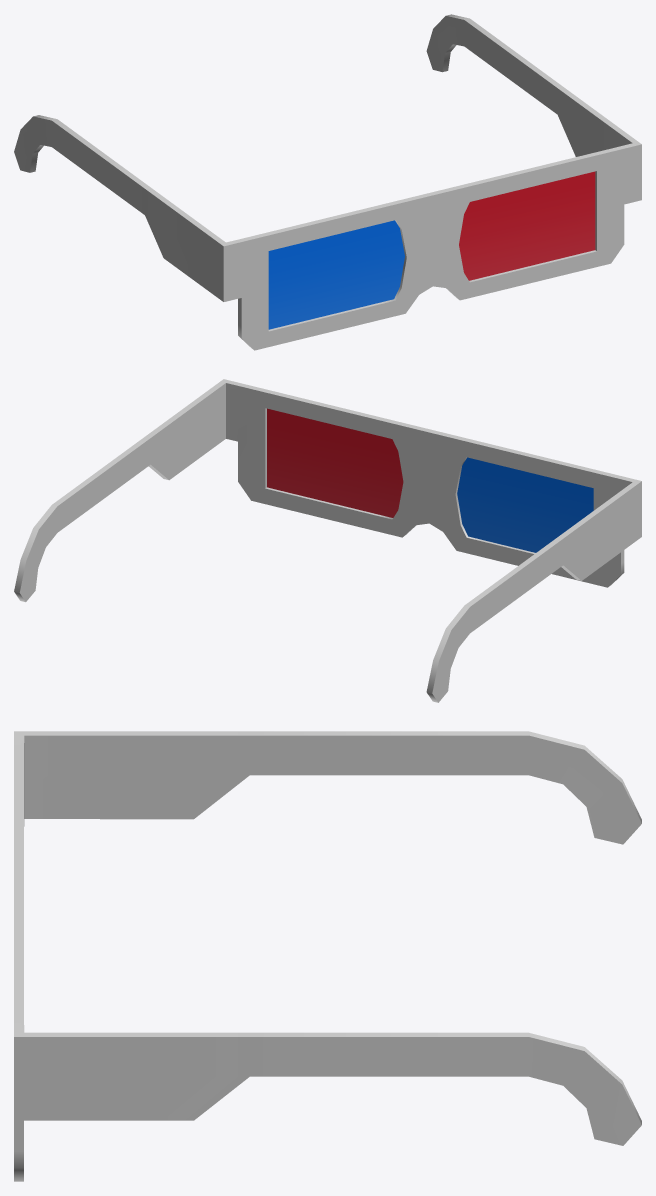
The model's file is 3d_glasses.glb.
3 views of the same model, one above another, from view 1: azimuth 30°, elevation 25°; view 2: azimuth 150°, elevation 25°; view 3: azimuth 270°, elevation 25° (orthographic). The views are drawn at different scales.
Visible parts, largest first — view 1: pasta, glass; view 2: pasta, glass; view 3: pasta.
Part boxes in pixels (left/top/right/bottom): pasta: left=14, top=14, right=641, bottom=350; glass: left=268, top=171, right=595, bottom=329; pasta: left=14, top=379, right=641, bottom=702; glass: left=267, top=408, right=593, bottom=552; pasta: left=14, top=731, right=641, bottom=1181.
Size of the model in its own units: 28.51 by 7.28 by 24.77.
2 materials, 1 textured.
